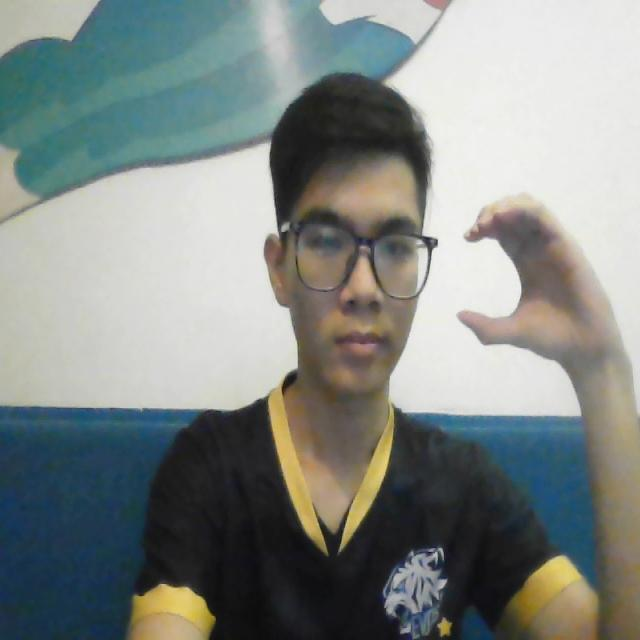C: (452, 170, 614, 374)
